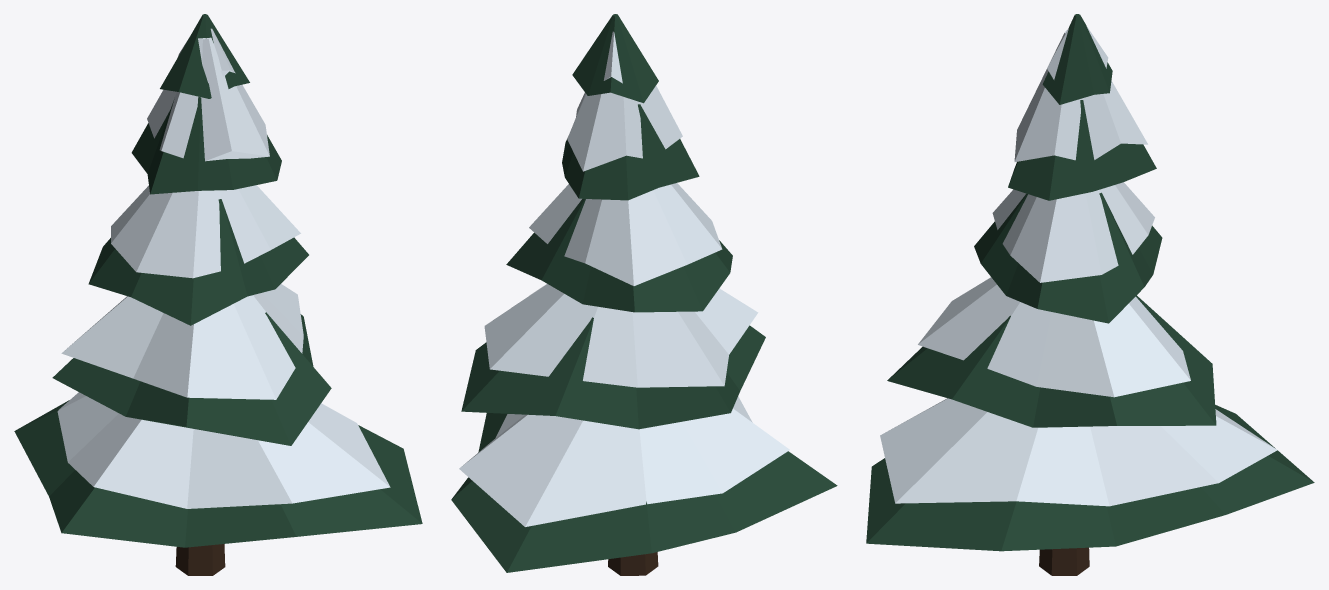
Rendered from Hut_Pine_3_0_-2.fbx.
The picture shows the model from 3 angles, left to right: view 1: azimuth 30°, elevation 25°; view 2: azimuth 150°, elevation 25°; view 3: azimuth 270°, elevation 25°; orthographic projection. The views are drawn at different scales.
Visible parts, largest first — view 1: Hut_Pine_3_0_-2; view 2: Hut_Pine_3_0_-2; view 3: Hut_Pine_3_0_-2.
Part boxes in pixels (x1,y1,x2,y2): Hut_Pine_3_0_-2: [14, 14, 422, 575]; Hut_Pine_3_0_-2: [451, 14, 837, 575]; Hut_Pine_3_0_-2: [866, 14, 1314, 575].
Bounding box in the file's own units: 415 × 631 × 460.
